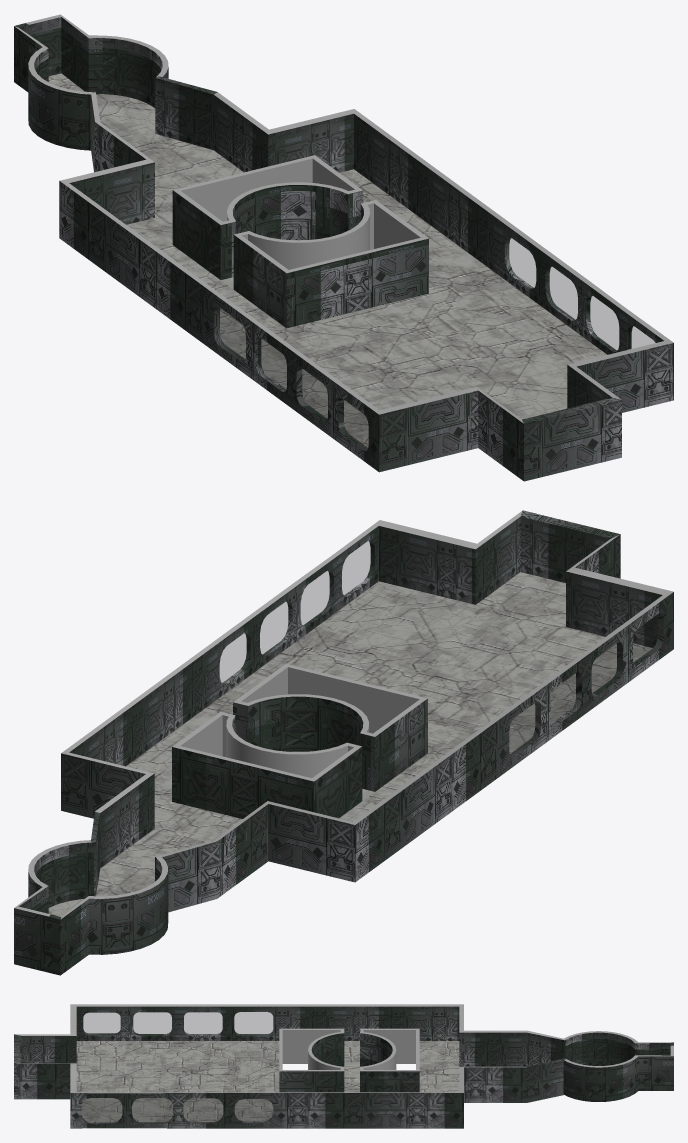
Rendered from level1_textured.fbx.
3 views of the same model, one above another, from view 1: azimuth 30°, elevation 25°; view 2: azimuth 150°, elevation 25°; view 3: azimuth 270°, elevation 25° (orthographic). The views are drawn at different scales.
Parts seen in each view (by area): view 1: Plane.001; view 2: Plane.001; view 3: Plane.001.
Boxes of the visible parts, left/top/right/bottom form: Plane.001: left=14, top=14, right=673, bottom=481; Plane.001: left=14, top=510, right=673, bottom=975; Plane.001: left=14, top=1004, right=673, bottom=1128.
Size of the model in its own units: 2727 by 509 by 8580.
